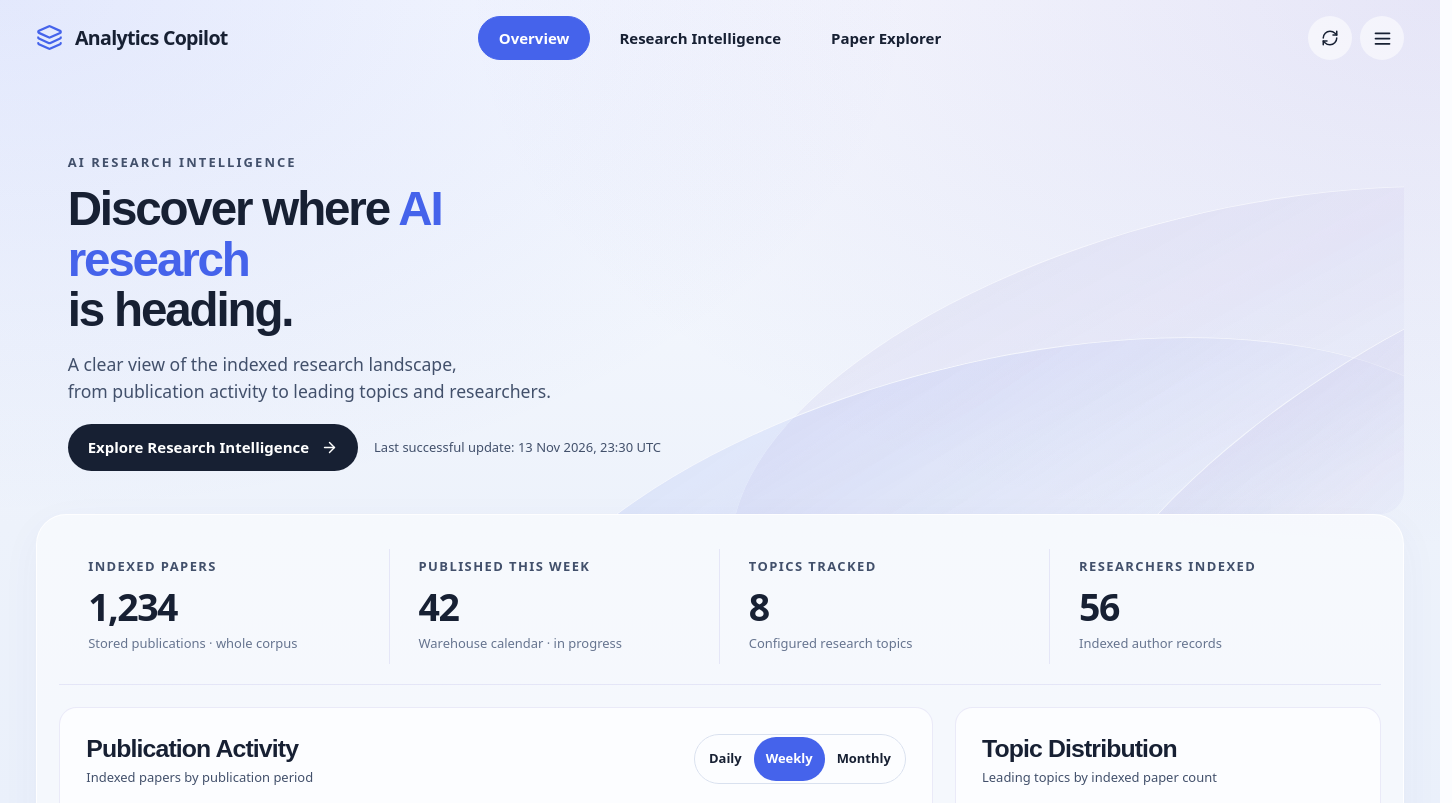
Test: Executive snapshot › retains the hero during initial loading and permits snapshot retry
Later steps or results of the test are not shown.
Expected: the heading "Discover where AI research is heading." is shown, x1=68 y1=182 x2=442 y2=336
Expected: the text "1,234" is shown, x1=88 y1=581 x2=177 y2=632
Click the button named "Refresh data" at (1330, 38), box x1=1308 y1=16 x2=1352 y2=60
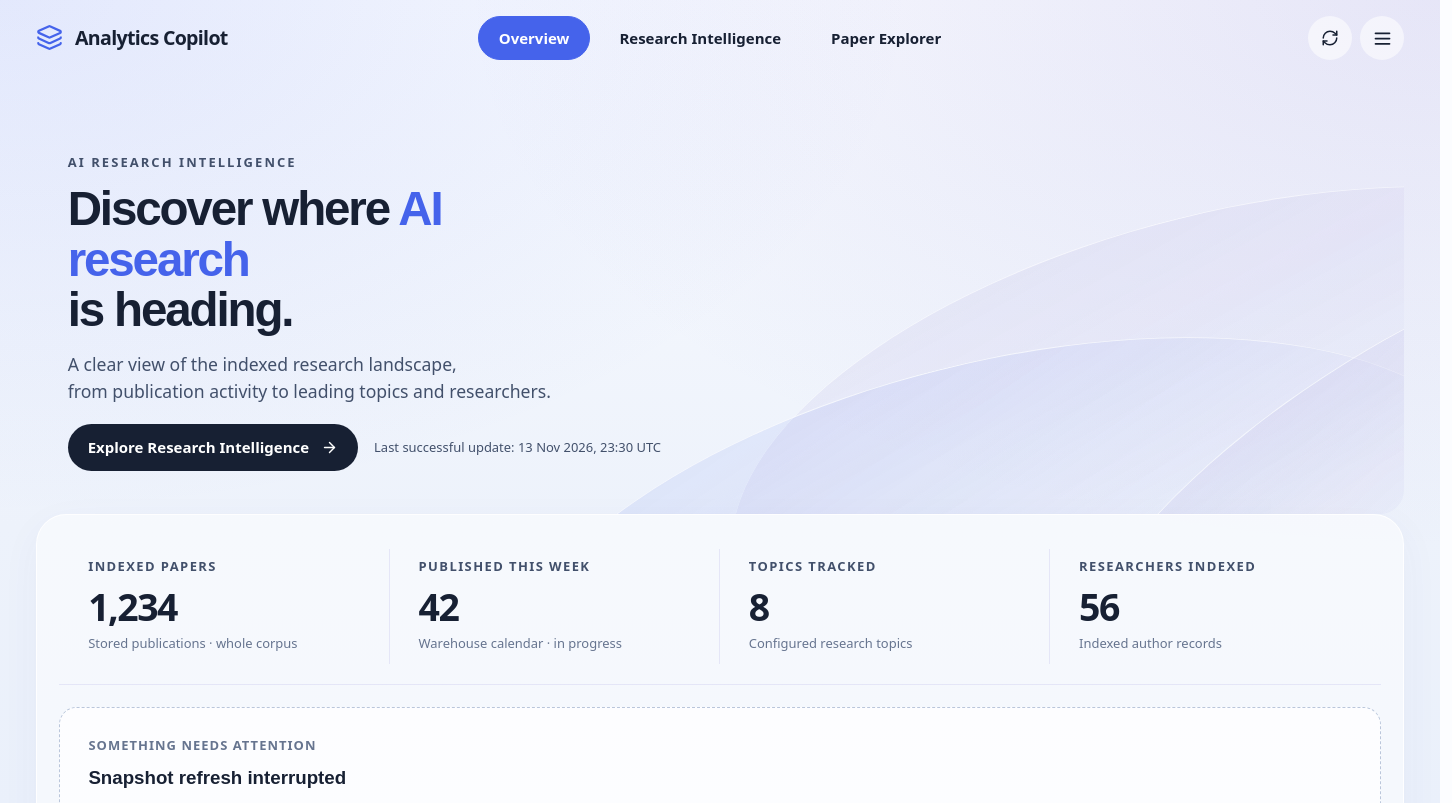
Expected: the text "1,234" is shown, x1=88 y1=581 x2=177 y2=632
Result: the heading "Snapshot refresh interrupted" is shown at x1=88 y1=767 x2=346 y2=788
